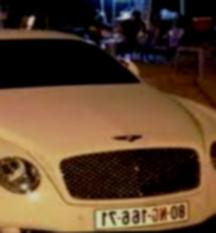License_Plate: (91, 196, 195, 230)
